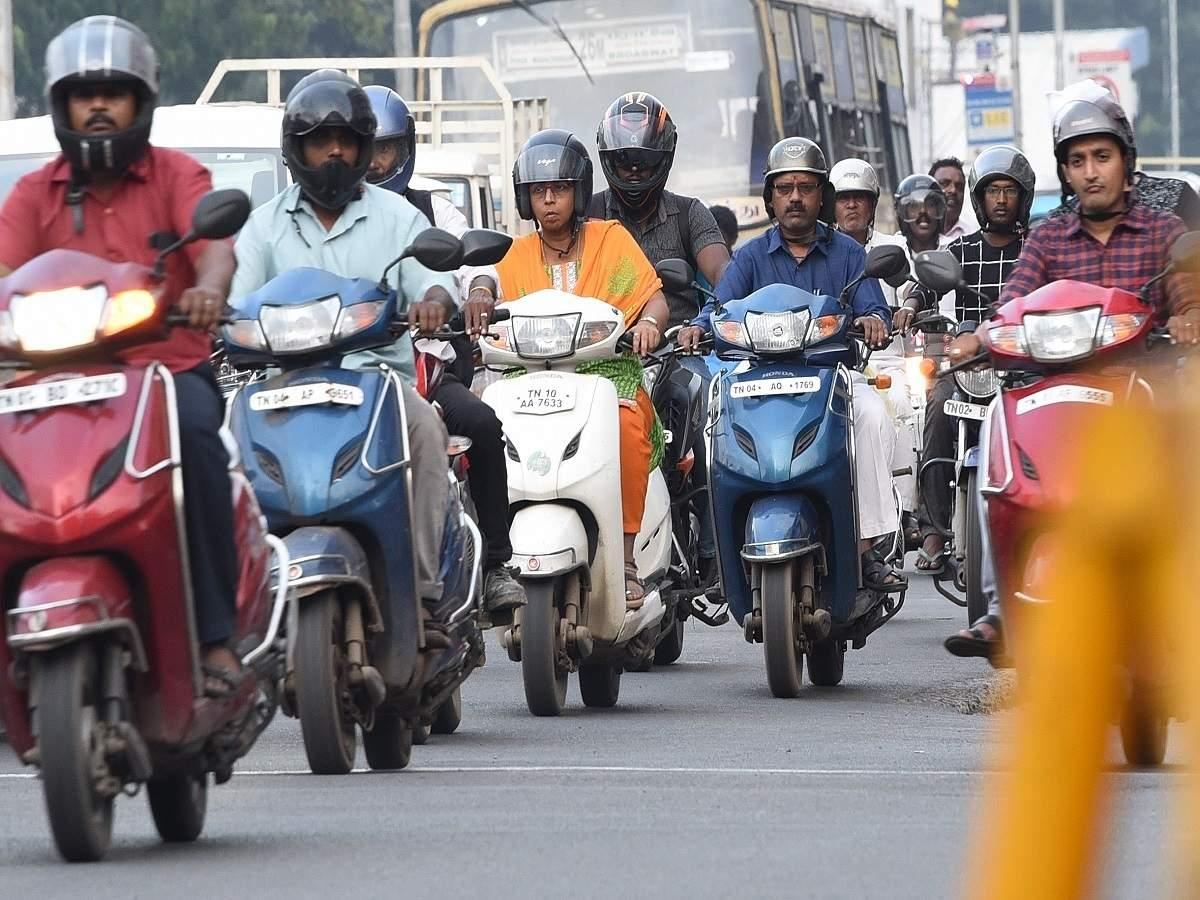helmet: (41, 14, 158, 170), (1037, 92, 1150, 215), (279, 76, 380, 196), (595, 88, 678, 218), (509, 120, 599, 226), (759, 128, 838, 244), (356, 80, 419, 198), (959, 146, 1036, 231), (820, 148, 893, 222), (893, 176, 954, 246)
